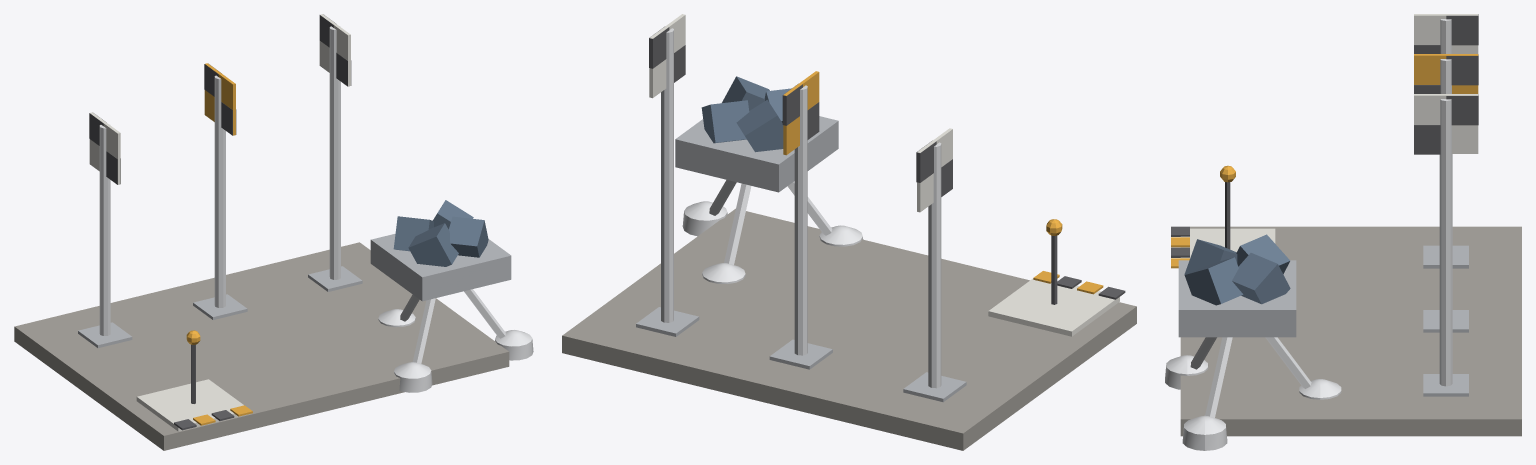
Rendered from survey-marker-array-99d264a2.glb.
3 views of the same model, side by side, from view 1: azimuth 30°, elevation 25°; view 2: azimuth 150°, elevation 25°; view 3: azimuth 270°, elevation 25° (orthographic). The views are drawn at different scales.
Parts seen in each view (by area): view 1: survey-marker-array; view 2: survey-marker-array; view 3: survey-marker-array.
Part boxes in pixels (box(x1,y1,x2,y2)): survey-marker-array: box(14, 14, 533, 450); survey-marker-array: box(562, 14, 1136, 450); survey-marker-array: box(1165, 14, 1521, 450).
Bounding box in the file's own units: 2.63 × 1.8 × 1.88.
